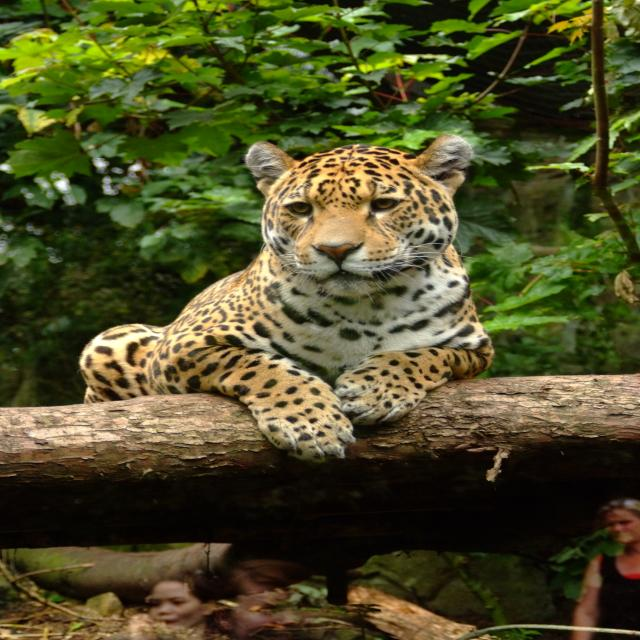Jaguar: (79, 132, 500, 470)
